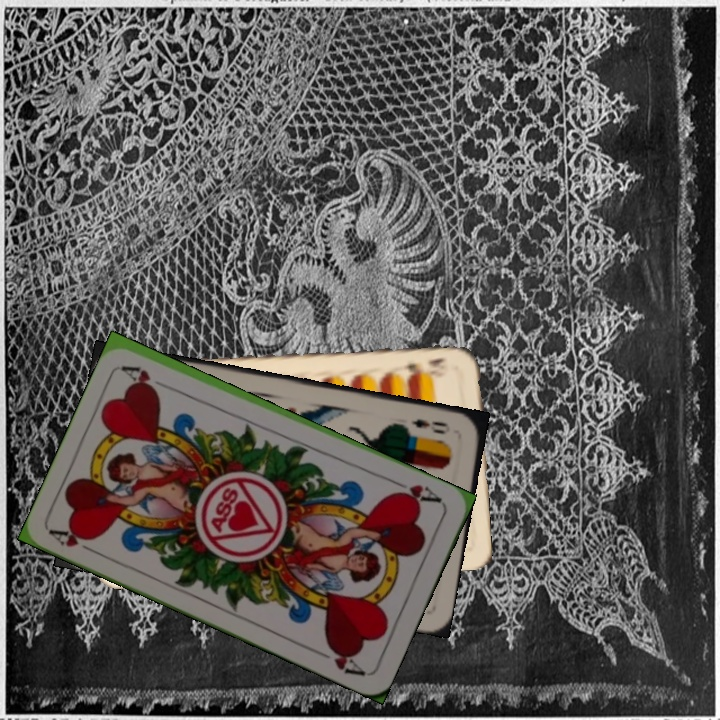E10: (399, 354, 449, 379)
EO: (407, 414, 453, 437)
HA: (47, 523, 103, 559), (389, 476, 445, 507)
